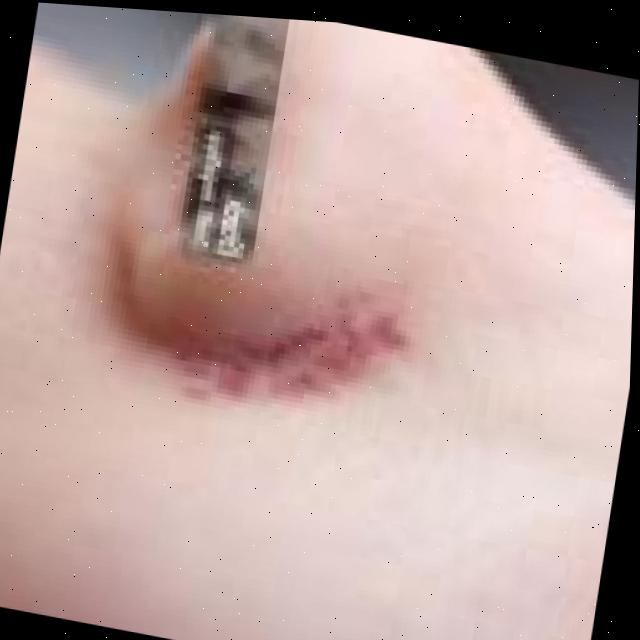Shingles: (161, 258, 425, 444)
